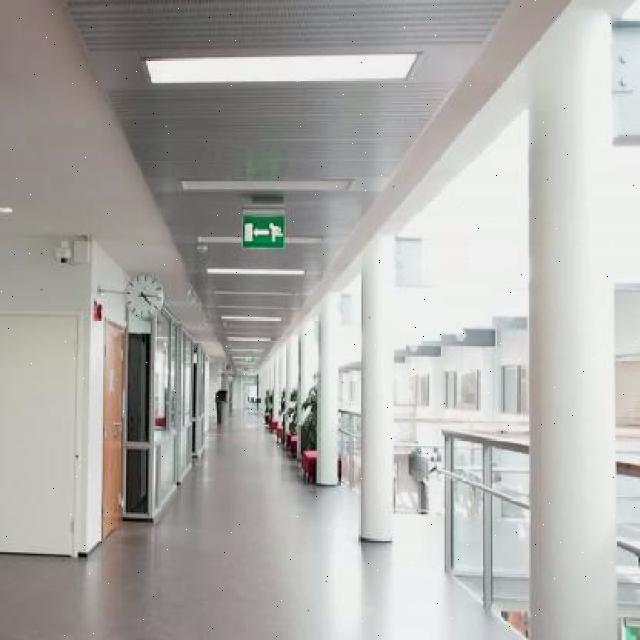emergency_exit: (240, 212, 286, 250)
